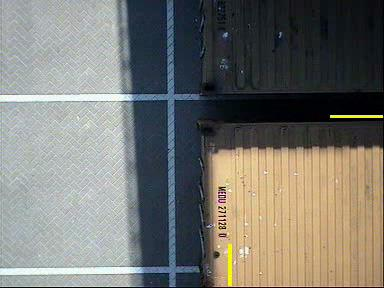groundmarker_2: (154, 158, 258, 251)
